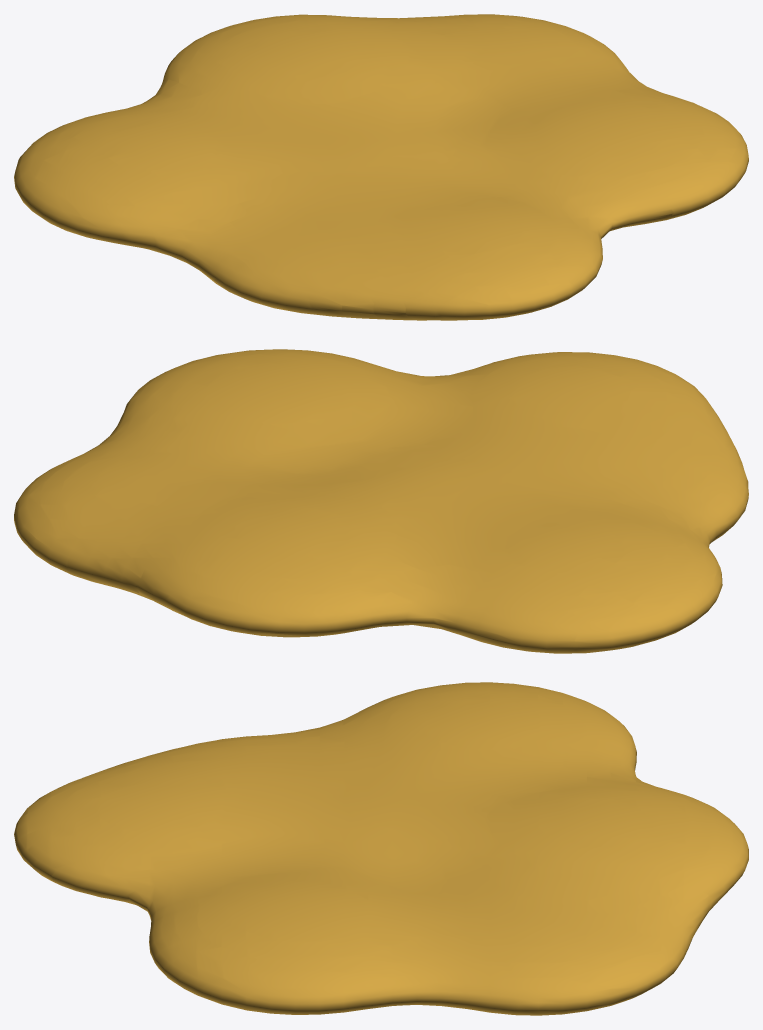
The model's file is Honey.fbx.
The picture shows the model from 3 angles, top to bottom: view 1: azimuth 30°, elevation 25°; view 2: azimuth 150°, elevation 25°; view 3: azimuth 270°, elevation 25°; orthographic projection. The views are drawn at different scales.
Parts seen in each view (by area): view 1: Mball.001; view 2: Mball.001; view 3: Mball.001.
Part boxes in pixels (x1,y1,x2,y2): Mball.001: [14, 14, 748, 320]; Mball.001: [14, 349, 748, 653]; Mball.001: [14, 682, 748, 1015].
Size of the model in its own units: 6.08 by 0.7786 by 6.04.
